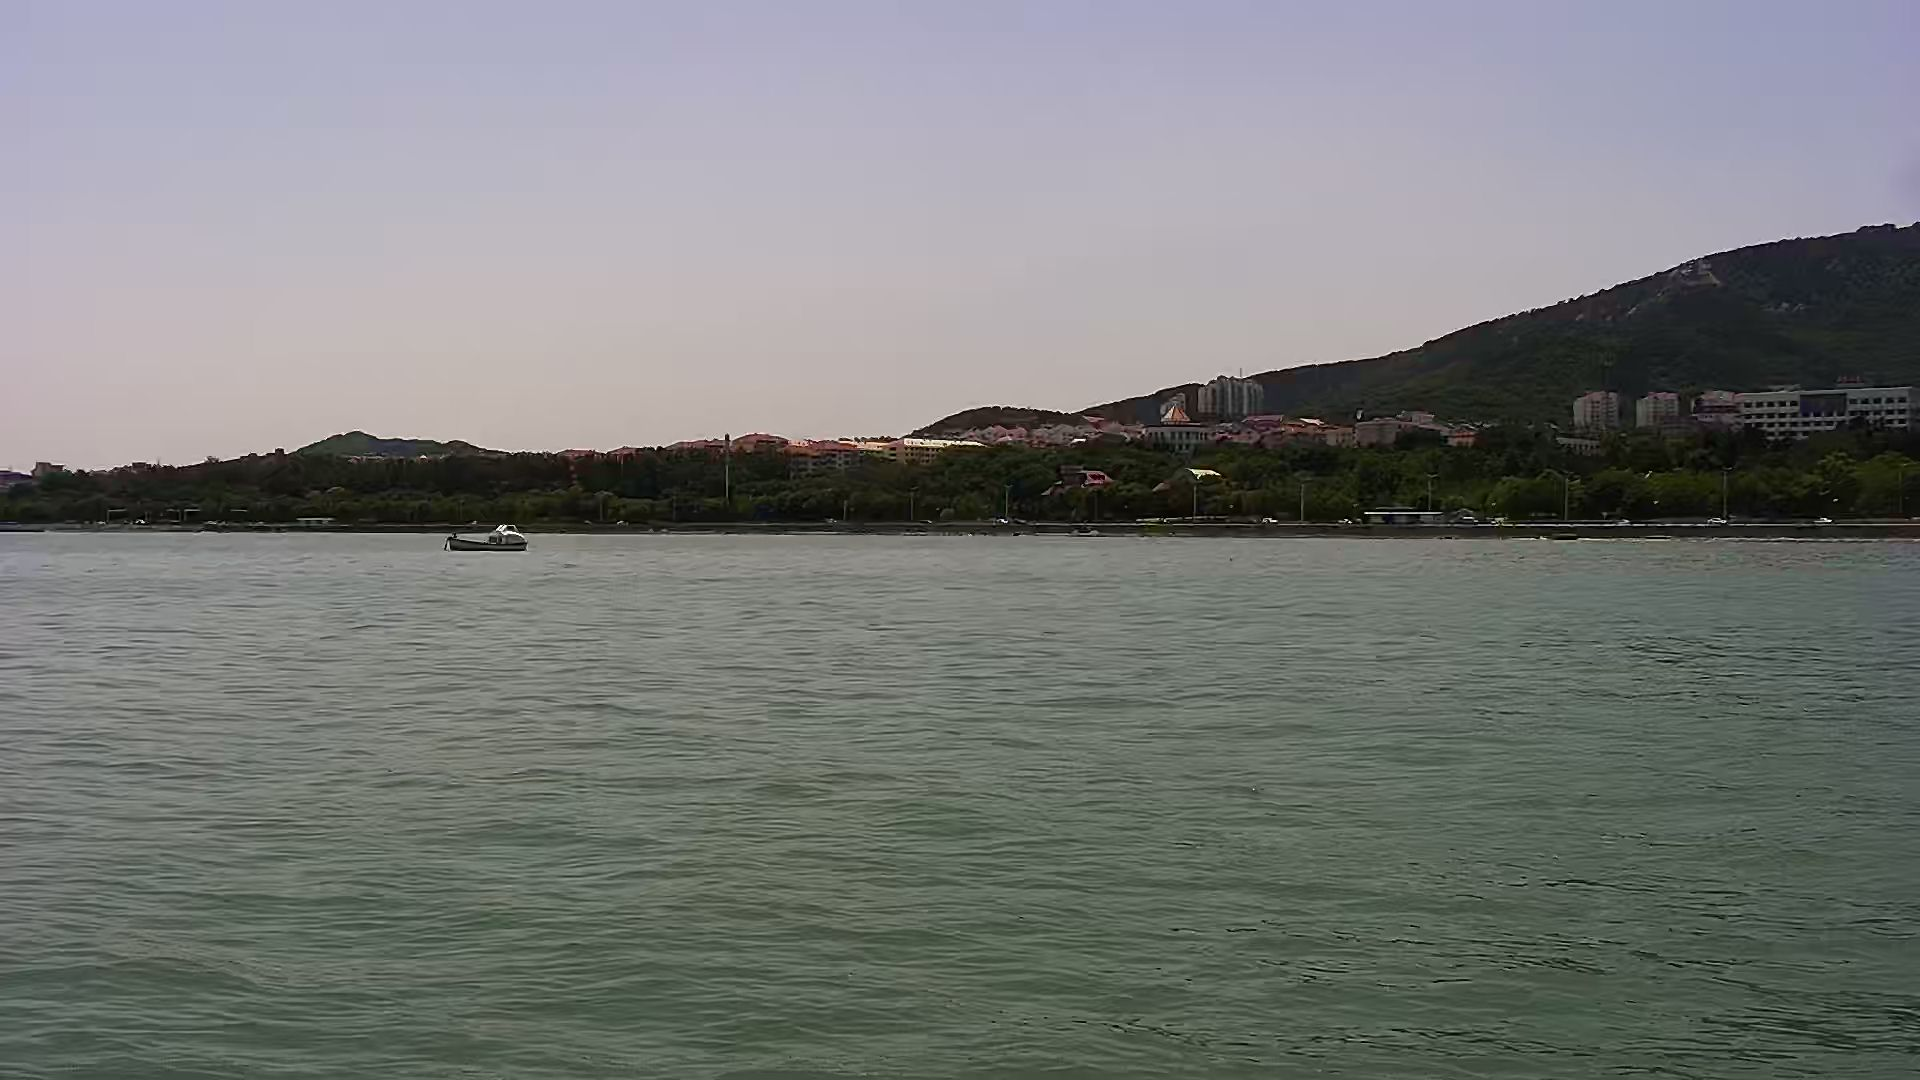ship: (444, 518, 539, 554)
